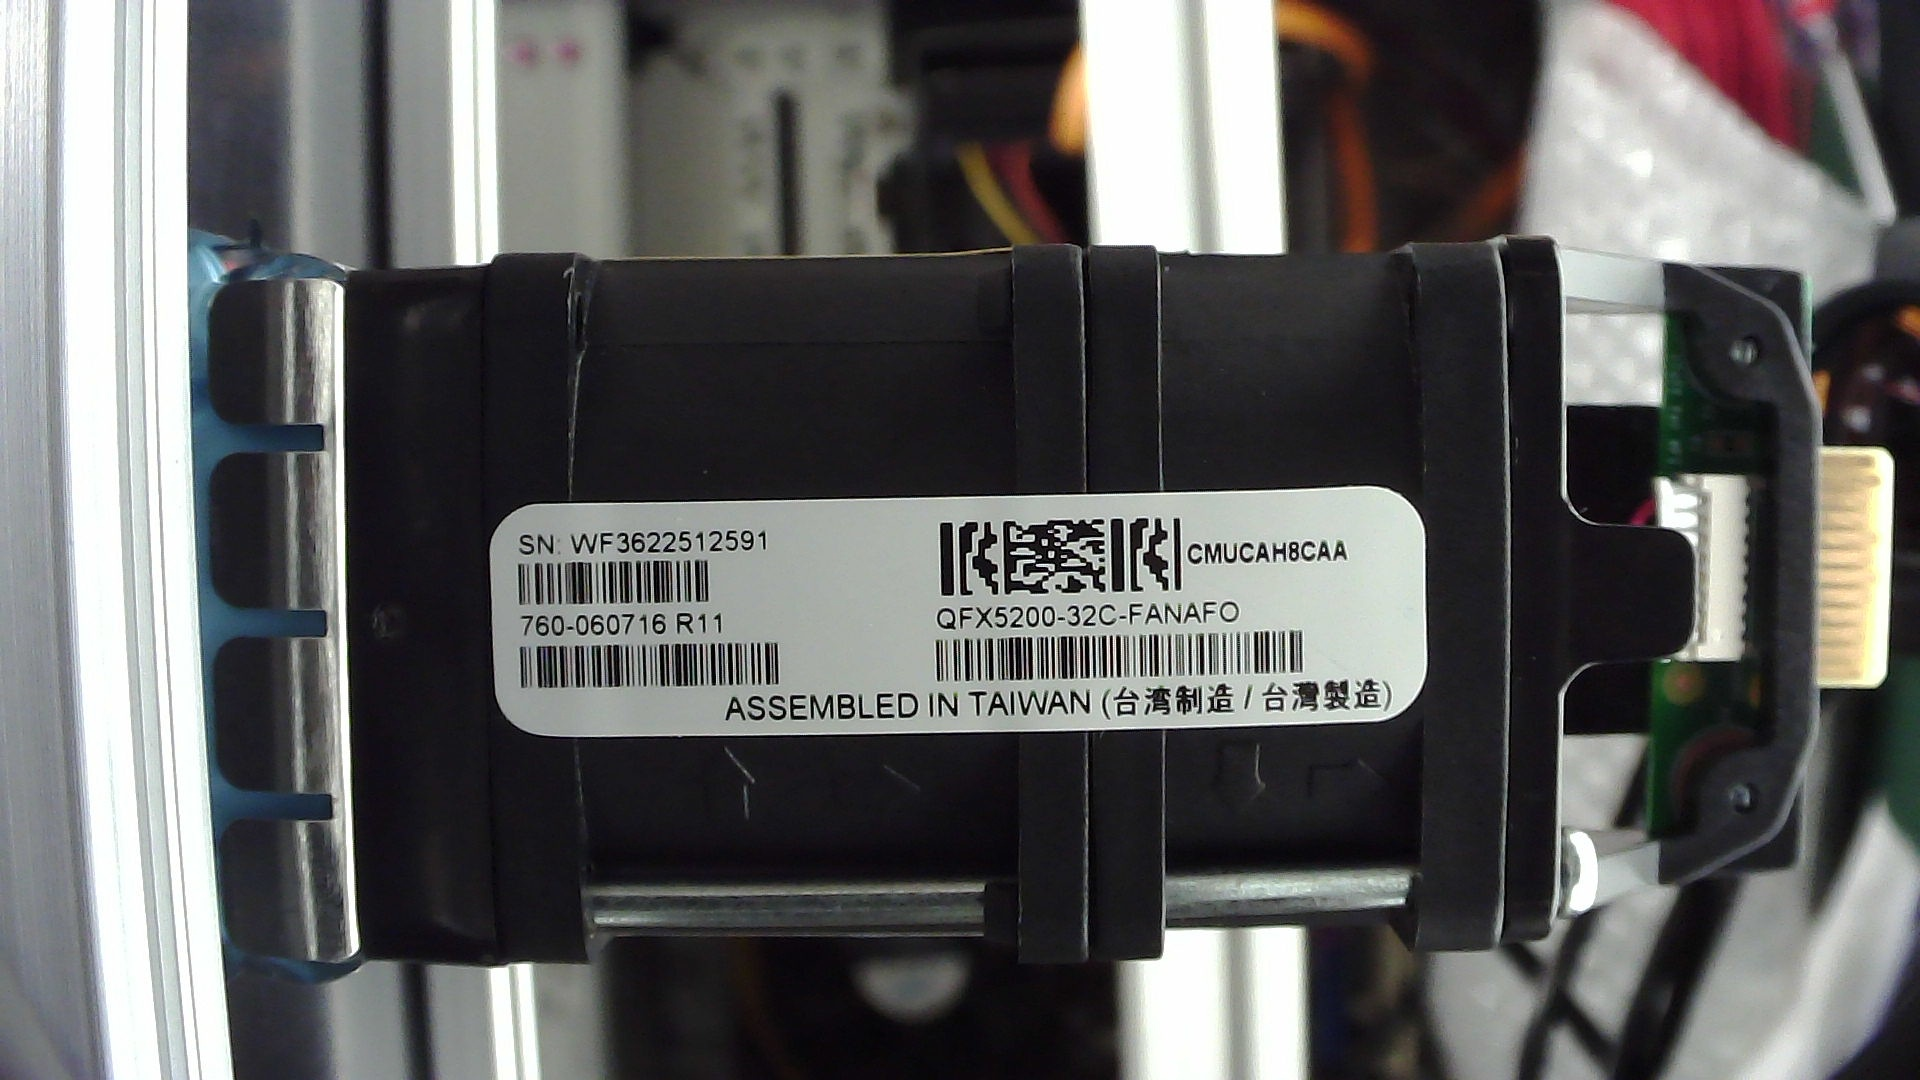6_2: (1687, 467, 1716, 654)
